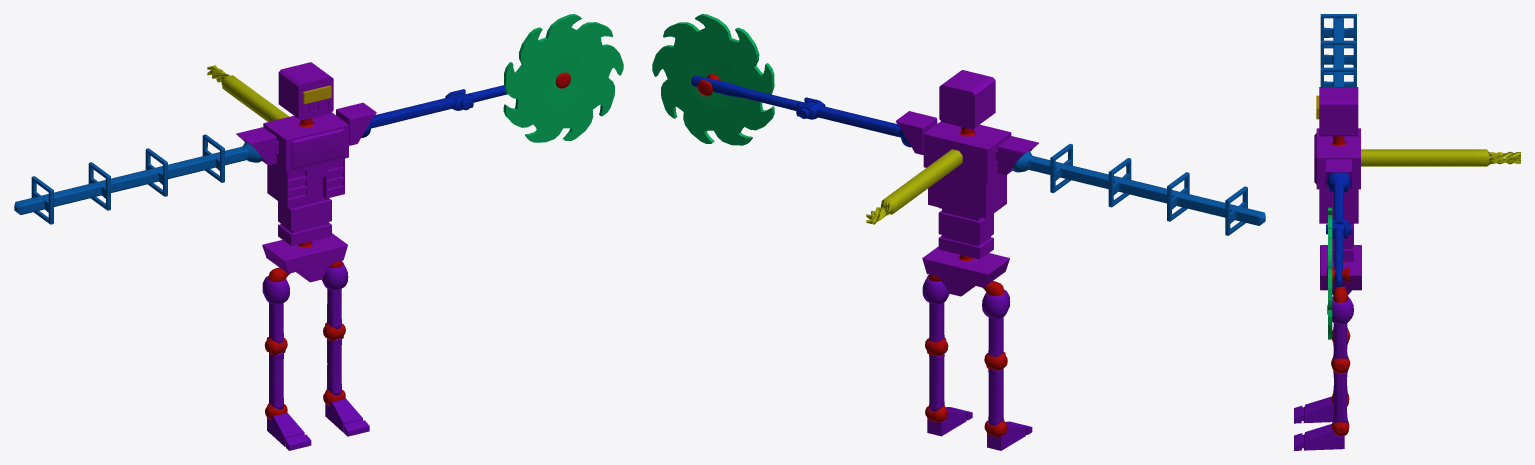
The model's file is Mechromancer_low.fbx.
3 renders of one model, left to right at view 1: azimuth 30°, elevation 25°; view 2: azimuth 150°, elevation 25°; view 3: azimuth 270°, elevation 25°, orthographic. The views are drawn at different scales.
Parts seen in each view (by area): view 1: Mechromancer_low; view 2: Mechromancer_low; view 3: Mechromancer_low.
Part boxes in pixels (x1=…): Mechromancer_low: x1=14, y1=14, x2=623, y2=450; Mechromancer_low: x1=652, y1=14, x2=1265, y2=450; Mechromancer_low: x1=1294, y1=14, x2=1520, y2=450.
Size of the model in its own units: 355 by 198 by 120.
